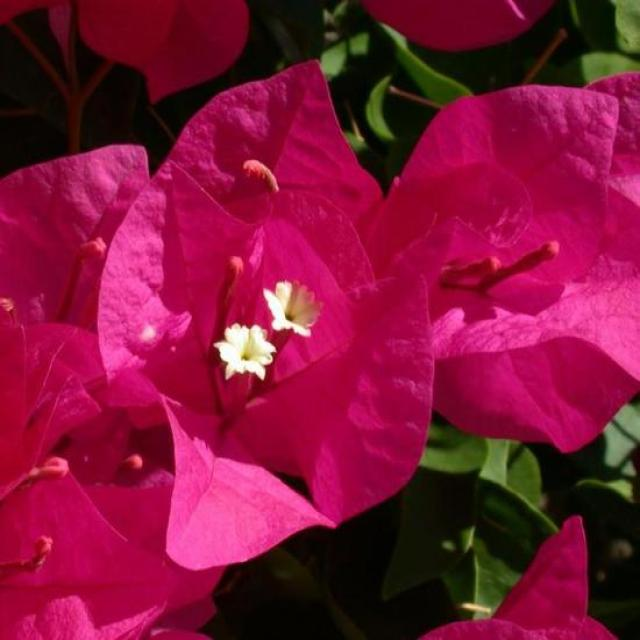bougainvillea: (14, 31, 611, 640)
